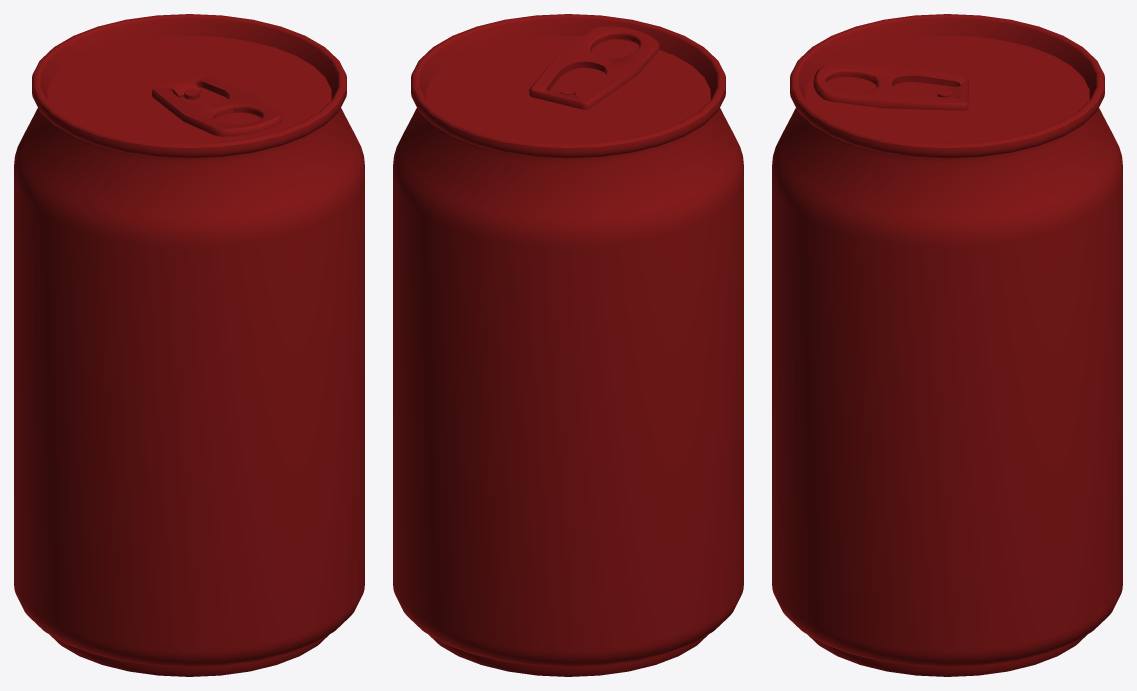
File: SM_Cola.fbx
3 renders of one model, left to right at view 1: azimuth 30°, elevation 25°; view 2: azimuth 150°, elevation 25°; view 3: azimuth 270°, elevation 25°, orthographic.
Parts seen in each view (by area): view 1: SM_Cola; view 2: SM_Cola; view 3: SM_Cola.
Boxes of the visible parts, left/top/right/bottom form: SM_Cola: left=14, top=14, right=364, bottom=676; SM_Cola: left=393, top=14, right=743, bottom=676; SM_Cola: left=772, top=14, right=1122, bottom=676.
Bounding box in the file's own units: 8 × 13.43 × 7.96.
